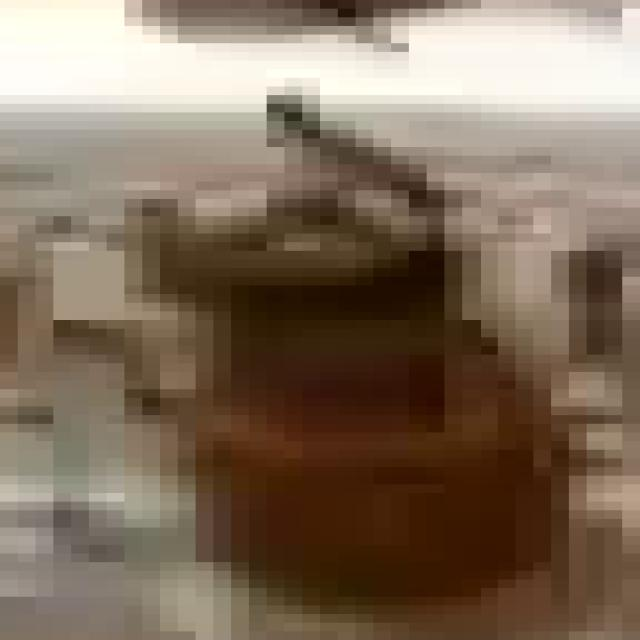honeybee: (120, 90, 591, 604)
